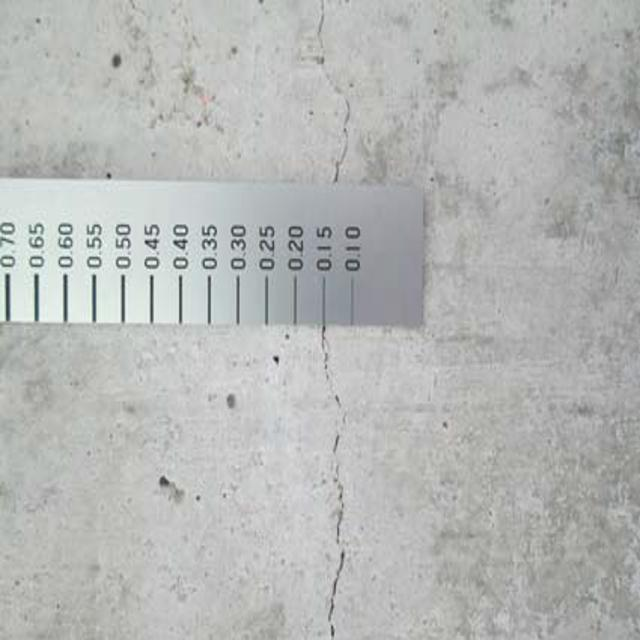crack: (296, 331, 364, 640), (306, 12, 361, 182)
